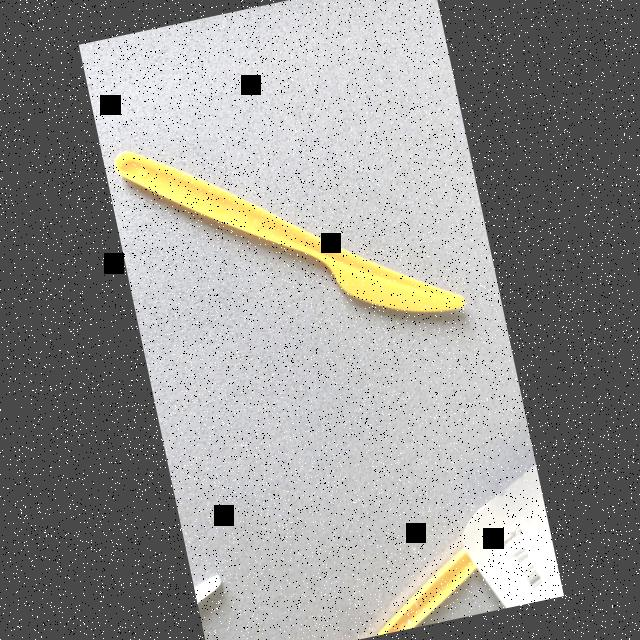plastic_cultery: (108, 83, 470, 378)
